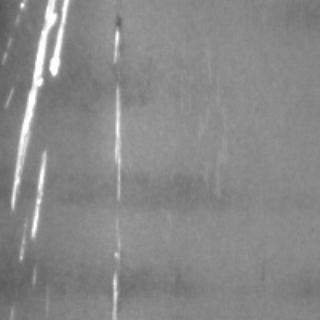scratches: (7, 0, 67, 234), (100, 20, 128, 316)
